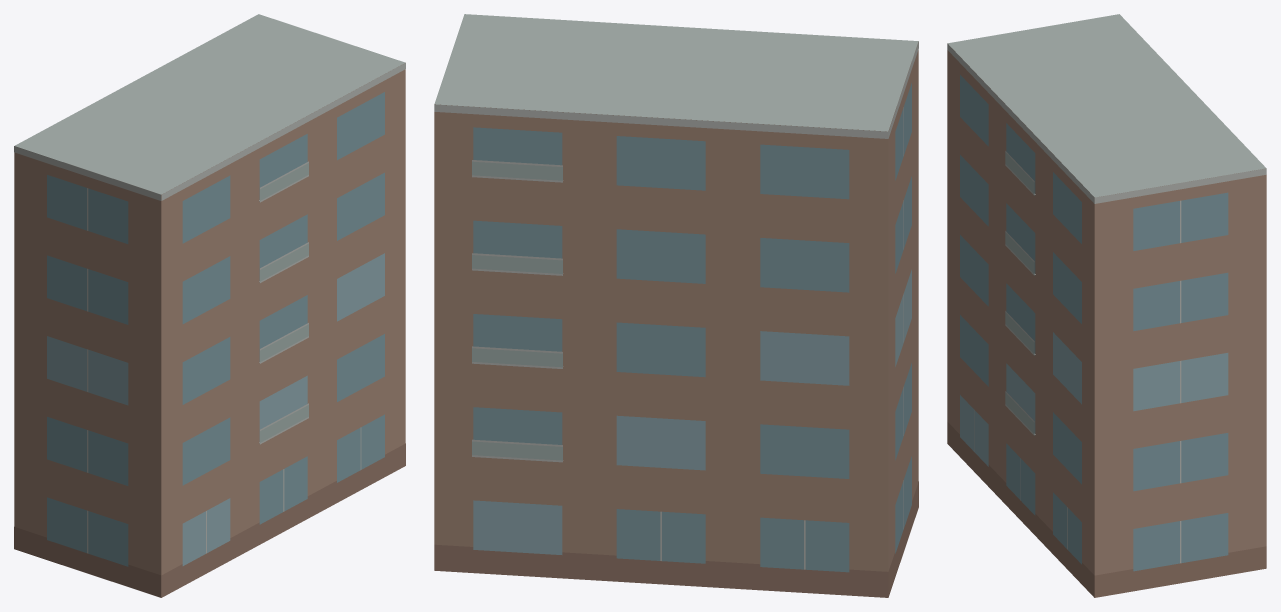
Rendered from residential-8cad96b9-af13-4504-b5de-3c36d104a2f2.glb.
3 renders of one model, left to right at view 1: azimuth 30°, elevation 25°; view 2: azimuth 150°, elevation 25°; view 3: azimuth 270°, elevation 25°, orthographic. The views are drawn at different scales.
Visible parts, largest first — view 1: residential-8cad96b9-af13-4504-b5de-3c36d104a2f2.tmp; view 2: residential-8cad96b9-af13-4504-b5de-3c36d104a2f2.tmp; view 3: residential-8cad96b9-af13-4504-b5de-3c36d104a2f2.tmp.
Part boxes in pixels (<box>): residential-8cad96b9-af13-4504-b5de-3c36d104a2f2.tmp: <box>14,14,405,597</box>; residential-8cad96b9-af13-4504-b5de-3c36d104a2f2.tmp: <box>434,14,918,597</box>; residential-8cad96b9-af13-4504-b5de-3c36d104a2f2.tmp: <box>947,14,1266,597</box>.
Bounding box in the file's own units: 15.01 × 15.25 × 11.03.
